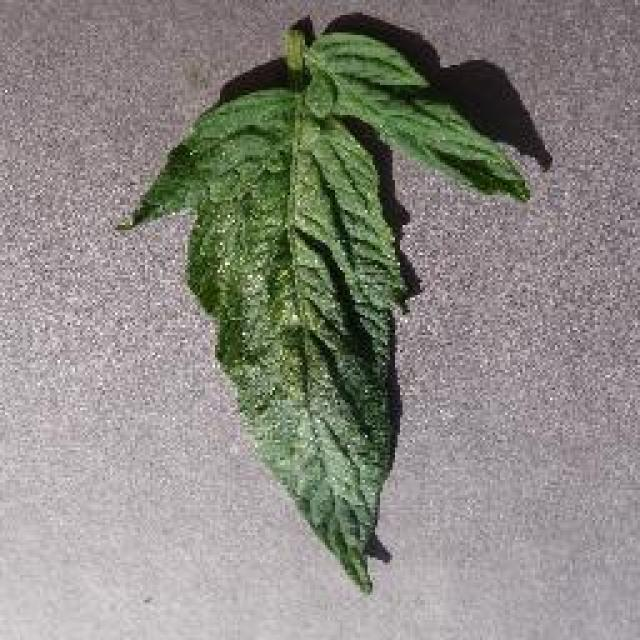Tomato___Spider_mites Two-spotted_spider_mite: (122, 28, 528, 588)
